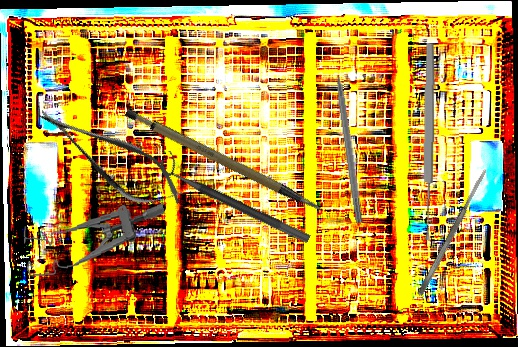Fixation Ring: (156, 149, 317, 245)
Hook Surgical: (332, 58, 365, 224)
Micro Scissor: (28, 90, 192, 224)
Scalpel Handle: (122, 83, 323, 242)
Spatula Surgical: (415, 166, 491, 298)
Speculum: (21, 201, 169, 278)
Surgical Spoon: (420, 43, 437, 241)
